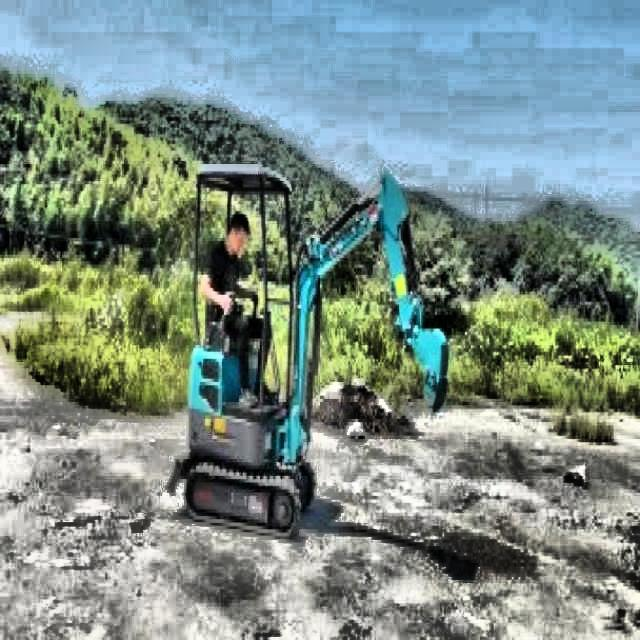bull_dozer/loader/grader: (164, 160, 452, 543)
person: (198, 211, 279, 411)
